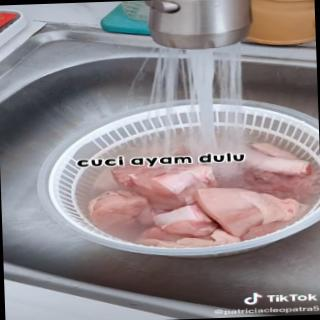Ayam: (194, 185, 314, 242), (152, 204, 223, 242)
